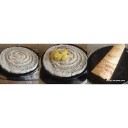dosa: (43, 45, 88, 76), (91, 44, 126, 80), (1, 47, 39, 74)
